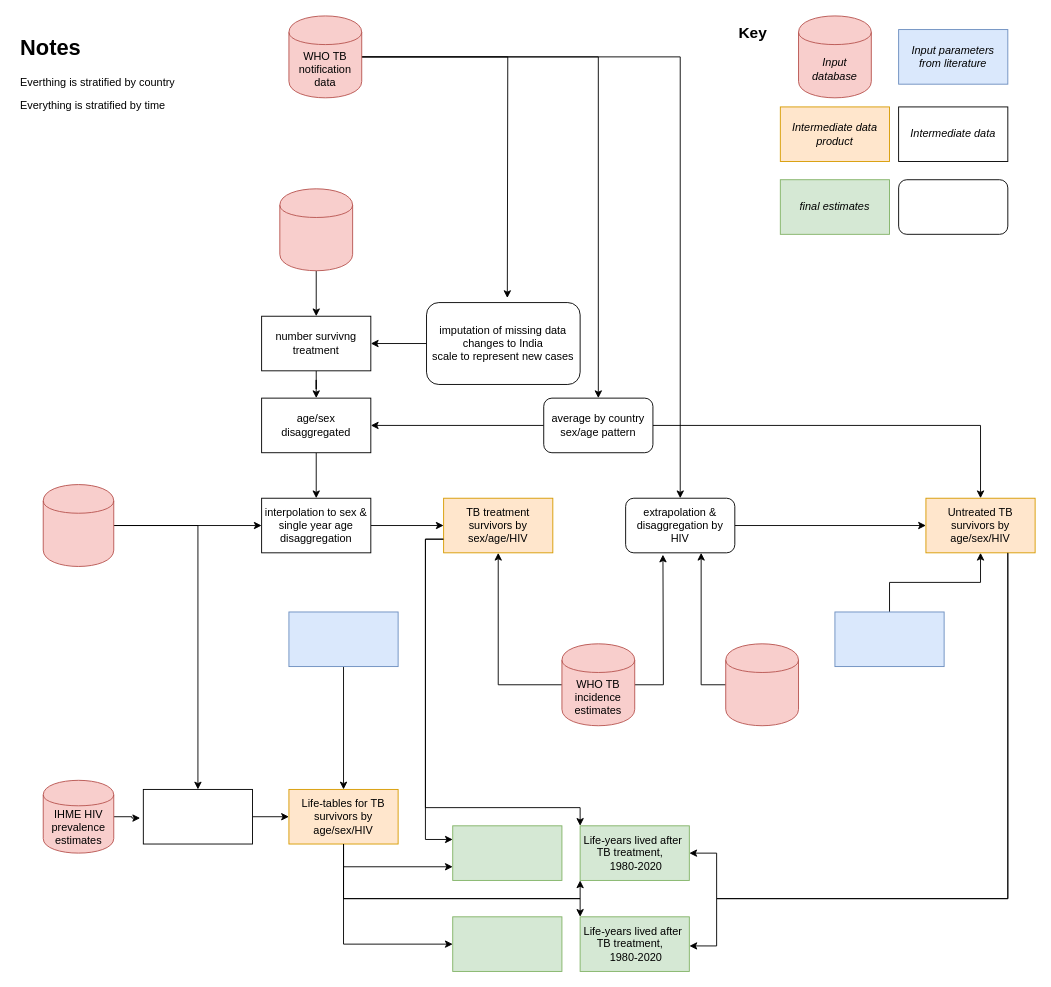
Image size: 1051x987. Some labels were removed from this diagram. The shapes that lost their labels are listed below. From the top down, each one's centre as x and y in pixels, then its label:
the point at 953,206: process
the point at 316,229: WHO TB treatment outcome data
the point at 78,525: UN WPP19 populations & life-tables
the point at 343,639: HR mortality in TB survivors from literature
the point at 889,639: literature CFRs
the point at 762,684: UNAIDS ART coverage estimates
the point at 197,816: Breakdown mortality by age/sex/HIV for each year
the point at 507,852: TB treatment survivors alive today by sex/age/HIV and year of TB
the point at 507,943: Untreated TB survivors alive today by age/sex/HIV and year of TB
